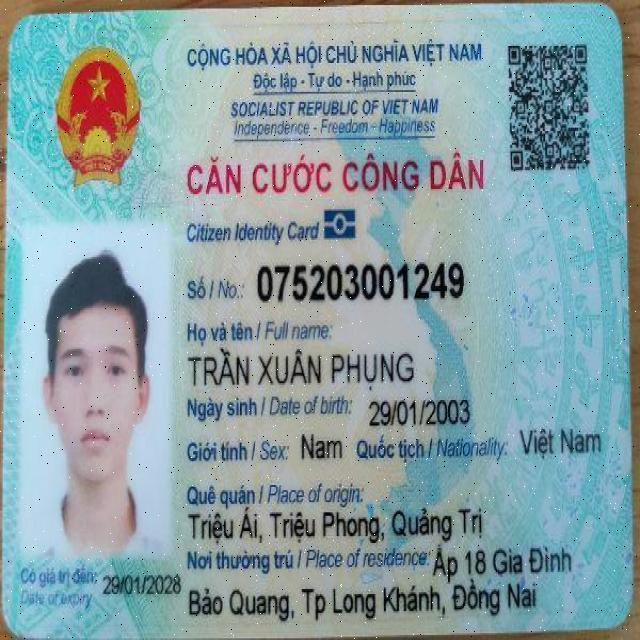current_place: (187, 579, 539, 625), (431, 542, 576, 581)
dob: (365, 393, 473, 426)
expire_date: (103, 569, 186, 596)
gender: (299, 428, 347, 460)
id: (258, 256, 470, 304)
name: (189, 343, 416, 392)
nationality: (514, 417, 602, 458)
origin_place: (187, 505, 486, 547)
